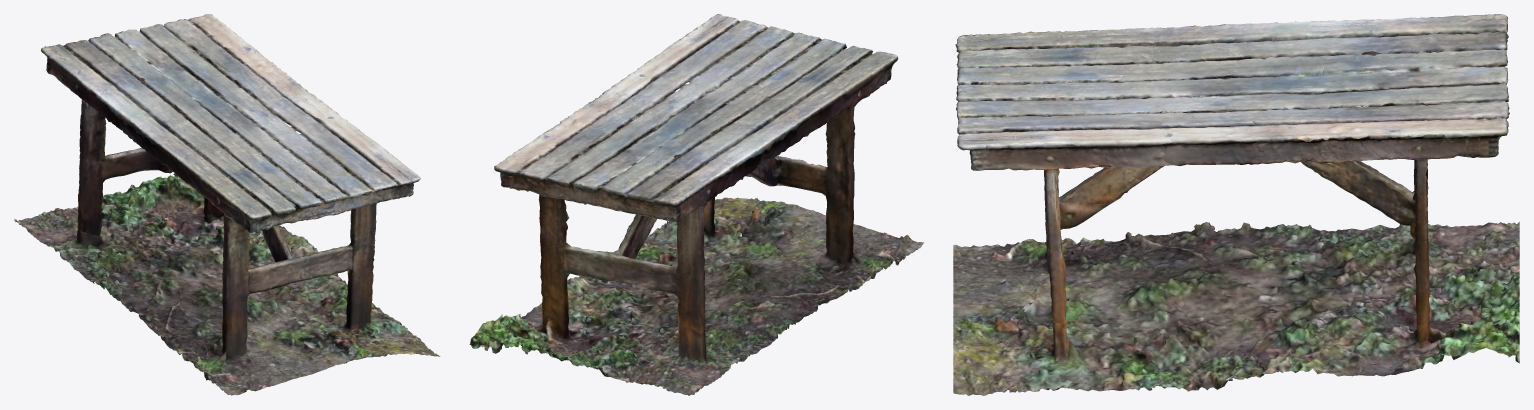
Rendered from table.glb.
The picture shows the model from 3 angles, left to right: view 1: azimuth 30°, elevation 25°; view 2: azimuth 150°, elevation 25°; view 3: azimuth 270°, elevation 25°; orthographic projection. The views are drawn at different scales.
Visible parts, largest first — view 1: Object; view 2: Object; view 3: Object.
Part boxes in pixels (left/top/right/bottom): Object: left=14, top=14, right=440, bottom=395; Object: left=469, top=14, right=923, bottom=395; Object: left=953, top=14, right=1519, bottom=395.
Size of the model in its own units: 0.8593 by 0.7907 by 1.54.
Materials: 1 (1 with a texture image).
